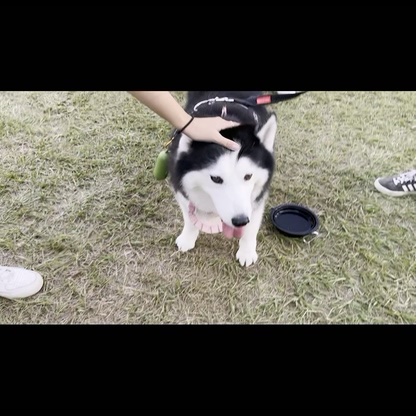husky: (156, 92, 282, 273)
